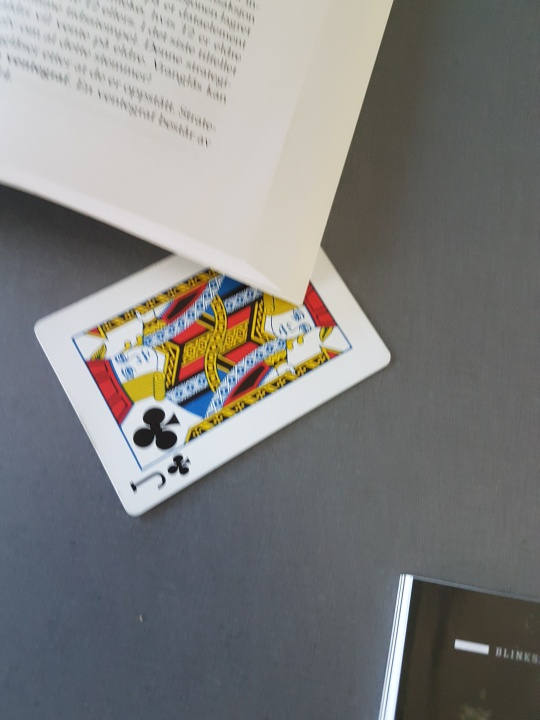jack: (28, 216, 397, 553)
